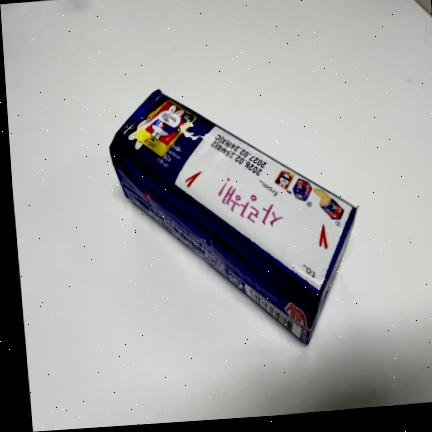cracker_ace: (109, 87, 357, 345)
